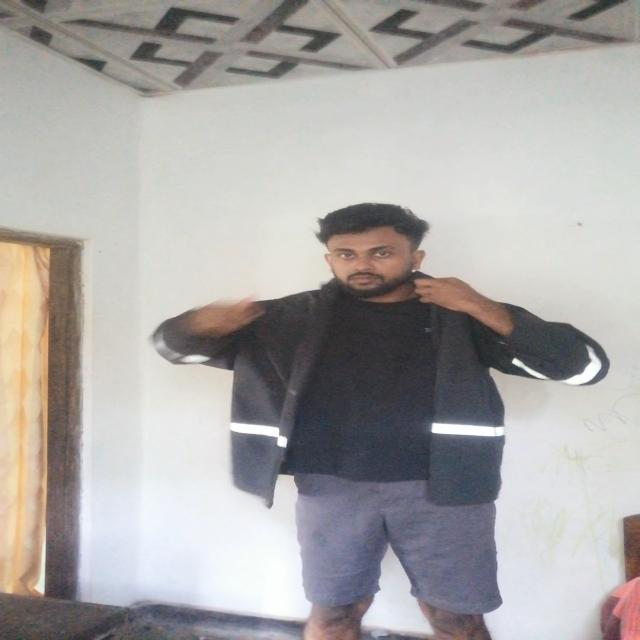Jacket_Wearer: (138, 274, 612, 506)
